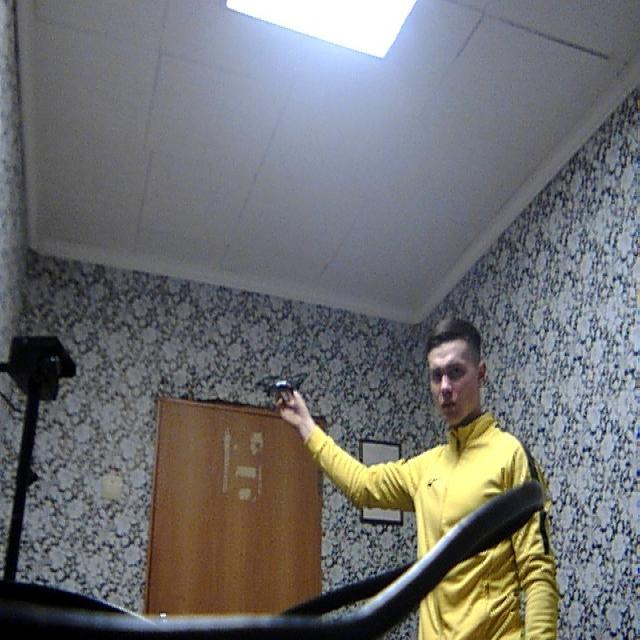drone: (246, 364, 318, 401)
